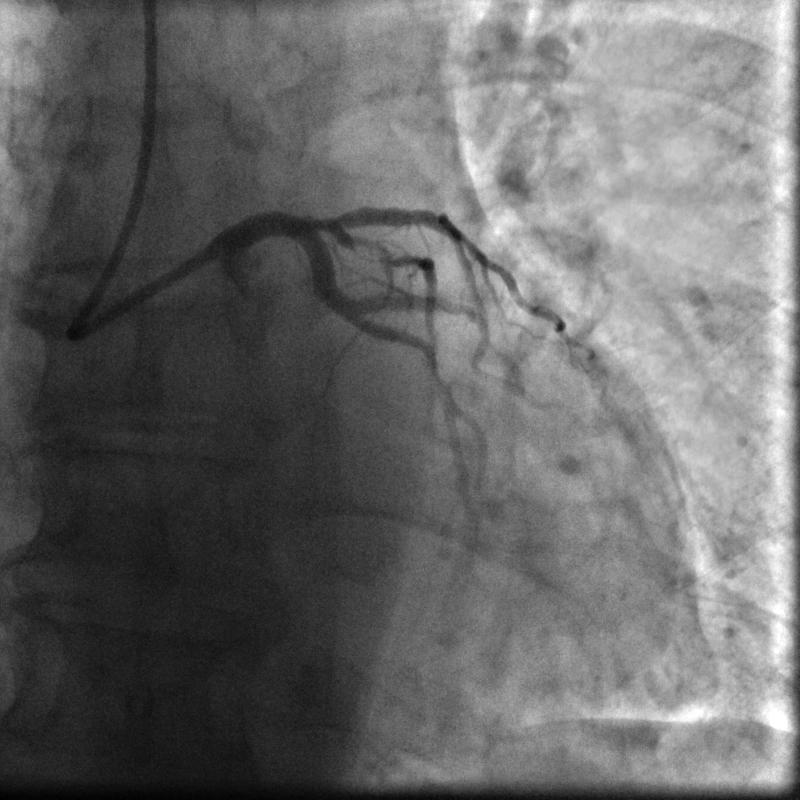Stenosis: (344, 223, 397, 271)
